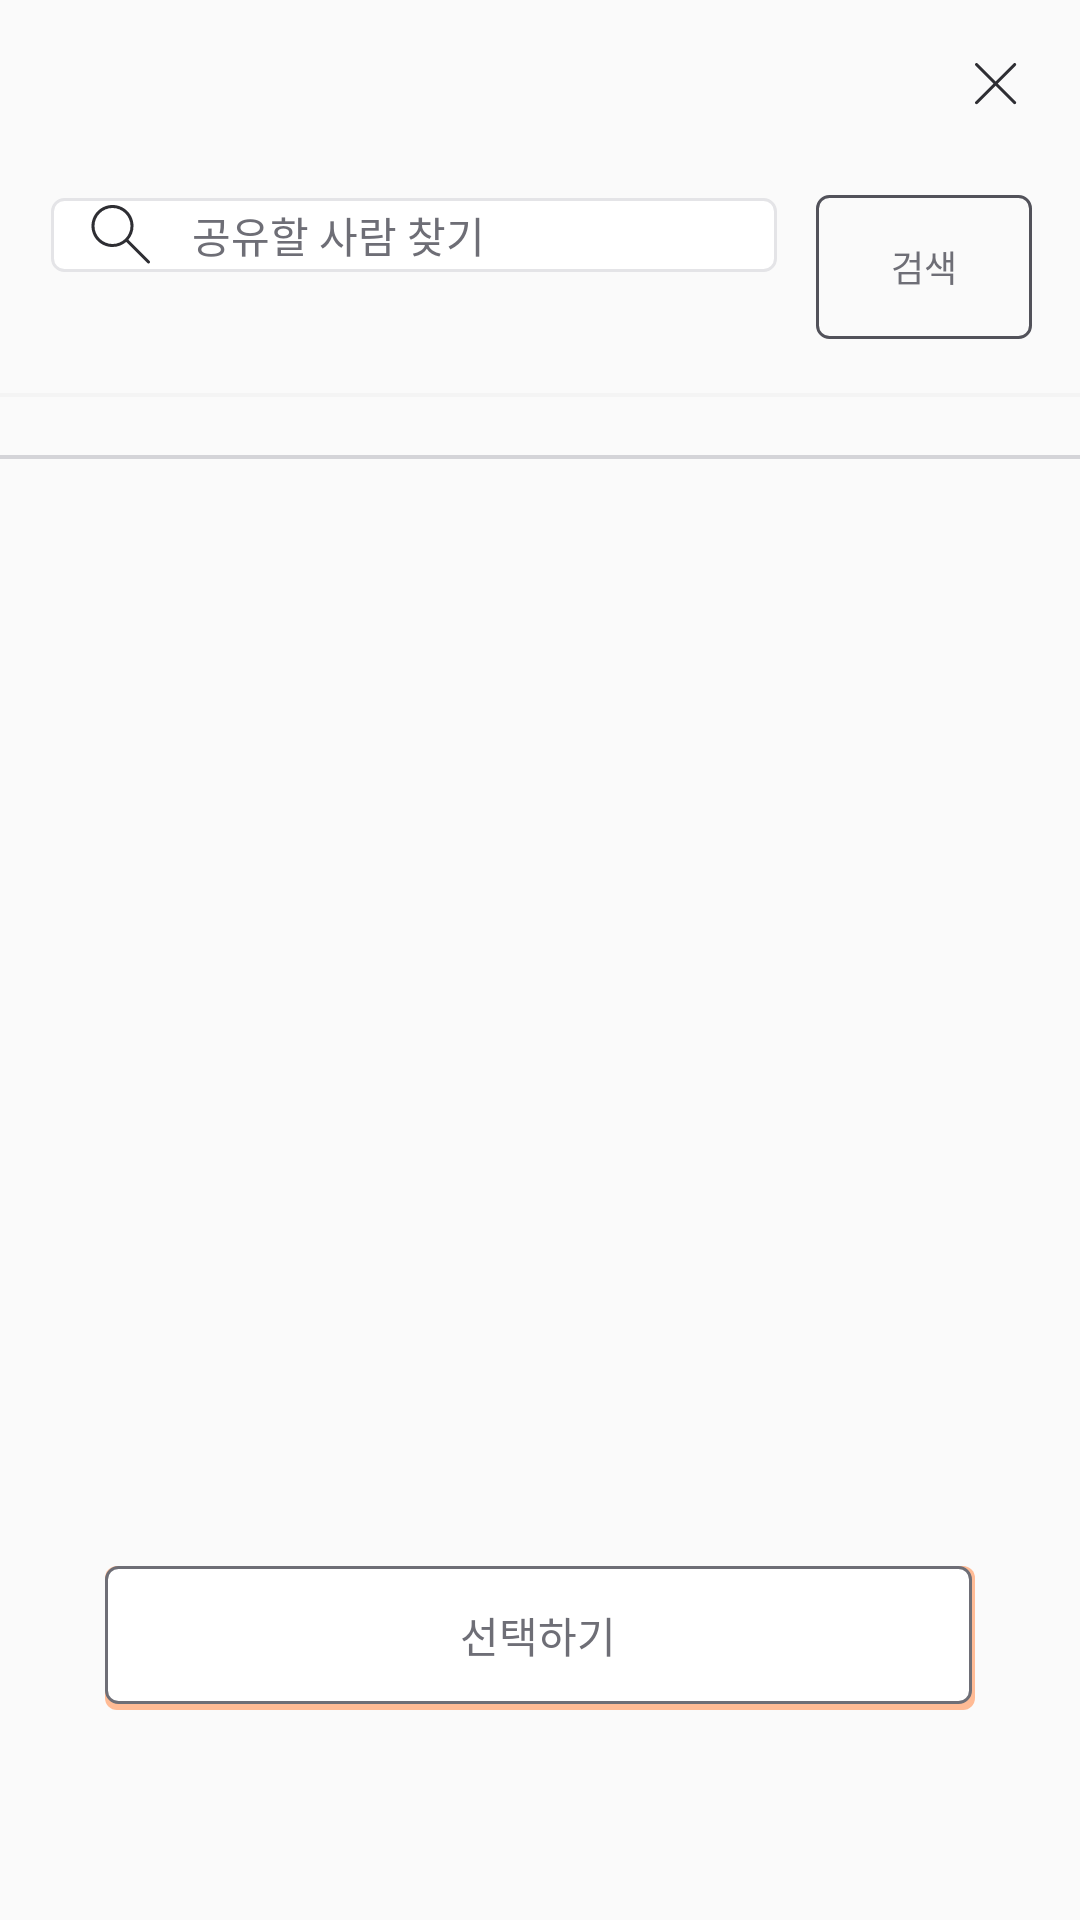

Icons on this 1080px×1920px Android screen, each with its box as (x1, y1, x2, y2):
search: (91, 205, 150, 264)
